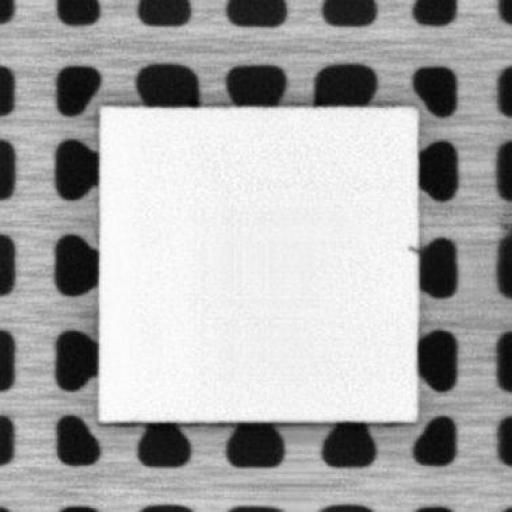DIE_INK: (402, 242, 419, 252)
